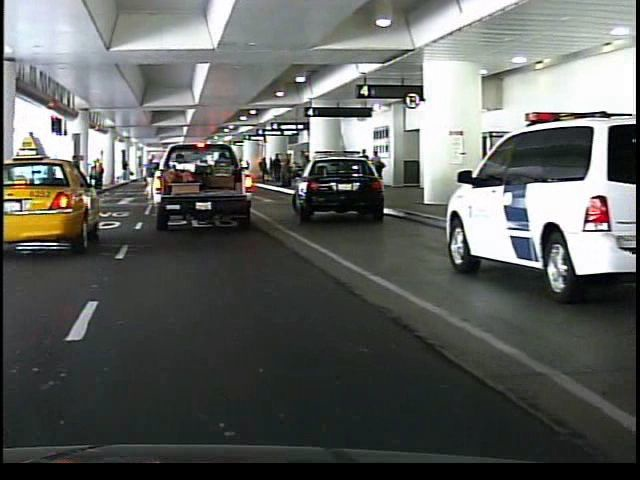person: (136, 151, 153, 202)
